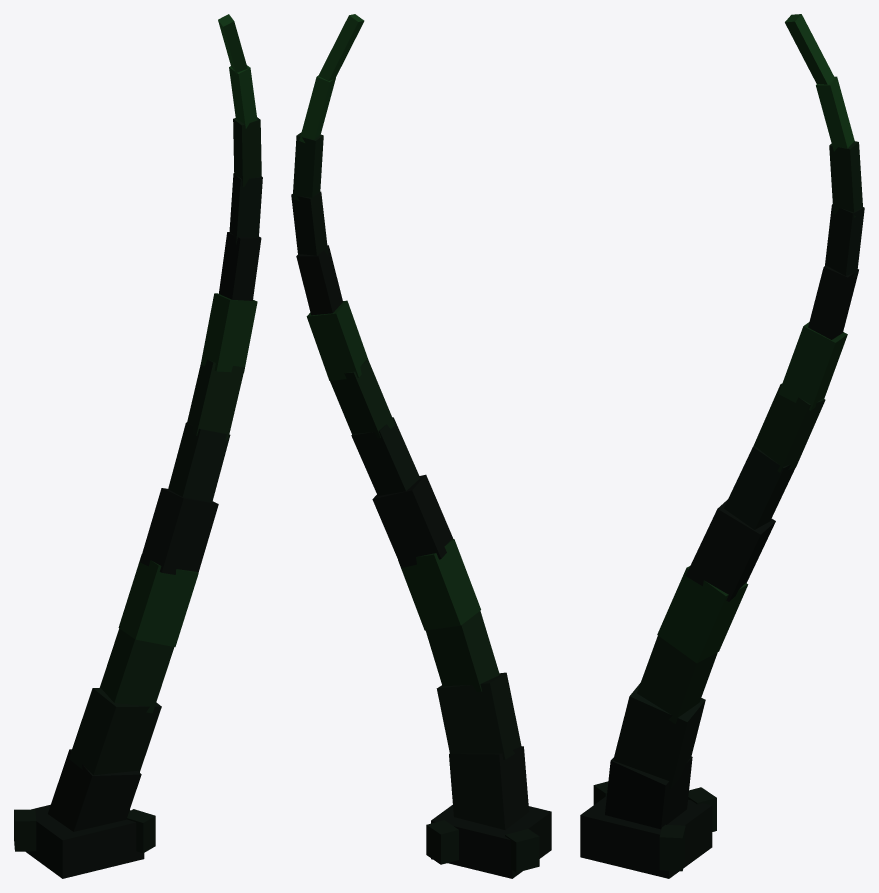
The model's file is tentacle.obj.
3 views of the same model, side by side, from view 1: azimuth 30°, elevation 25°; view 2: azimuth 150°, elevation 25°; view 3: azimuth 330°, elevation 25° (orthographic). The views are drawn at different scales.
Visible parts, largest first — view 1: Tentacle_Segment_02, Tentacle_Root, Tentacle_Segment_04, Tentacle_Segment_05, Tentacle_Segment_01, Tentacle_Segment_03, Tentacle_Segment_06, Tentacle_Segment_08, Tentacle_Segment_07, Tentacle_Segment_09, Tentacle_Segment_10, Tentacle_Segment_11 (+4 smaller); view 2: Tentacle_Segment_01, Tentacle_Segment_02, Tentacle_Segment_04, Tentacle_Segment_05, Tentacle_Root, Tentacle_Segment_03, Tentacle_Segment_06, Tentacle_Segment_08, Tentacle_Segment_07, Tentacle_Segment_09, Tentacle_Segment_10, Tentacle_Segment_11 (+4 smaller); view 3: Tentacle_Root, Tentacle_Segment_02, Tentacle_Segment_04, Tentacle_Segment_05, Tentacle_Segment_01, Tentacle_Segment_03, Tentacle_Segment_06, Tentacle_Segment_08, Tentacle_Segment_07, Tentacle_Segment_09, Tentacle_Segment_10, Tentacle_Segment_11 (+3 smaller).
Part boxes in pixels (box(x1,y1,x2,y2)): Tentacle_Segment_02: box(69, 688, 161, 775); Tentacle_Root: box(26, 804, 144, 878); Tentacle_Segment_04: box(118, 554, 198, 646); Tentacle_Segment_05: box(140, 488, 218, 574); Tentacle_Segment_01: box(48, 749, 141, 831); Tentacle_Segment_03: box(99, 628, 174, 713); Tentacle_Segment_06: box(168, 422, 230, 502); Tentacle_Segment_08: box(200, 293, 257, 372); Tentacle_Segment_07: box(187, 359, 244, 440); Tentacle_Segment_09: box(219, 232, 261, 300); Tentacle_Segment_10: box(229, 173, 262, 244); Tentacle_Segment_11: box(233, 117, 261, 186); Tentacle_Segment_01: box(449, 746, 529, 829); Tentacle_Segment_02: box(436, 672, 521, 759); Tentacle_Segment_04: box(398, 539, 480, 630); Tentacle_Segment_05: box(372, 474, 453, 567); Tentacle_Root: box(431, 805, 551, 878); Tentacle_Segment_03: box(426, 611, 499, 691); Tentacle_Segment_06: box(351, 417, 419, 495); Tentacle_Segment_08: box(306, 300, 368, 380); Tentacle_Segment_07: box(330, 360, 395, 438); Tentacle_Segment_09: box(296, 245, 342, 315); Tentacle_Segment_10: box(291, 191, 328, 255); Tentacle_Segment_11: box(292, 132, 323, 200); Tentacle_Root: box(580, 796, 712, 878); Tentacle_Segment_02: box(613, 683, 705, 788); Tentacle_Segment_04: box(657, 566, 748, 663); Tentacle_Segment_05: box(685, 499, 775, 601); Tentacle_Segment_01: box(605, 756, 692, 829); Tentacle_Segment_03: box(637, 636, 717, 723); Tentacle_Segment_06: box(724, 446, 795, 529); Tentacle_Segment_08: box(778, 322, 847, 410); Tentacle_Segment_07: box(753, 383, 825, 472); Tentacle_Segment_09: box(808, 265, 858, 339); Tentacle_Segment_10: box(825, 204, 864, 277); Tentacle_Segment_11: box(829, 141, 862, 217).
Bounding box in the file's own units: 1.86 × 5.84 × 0.7494.
